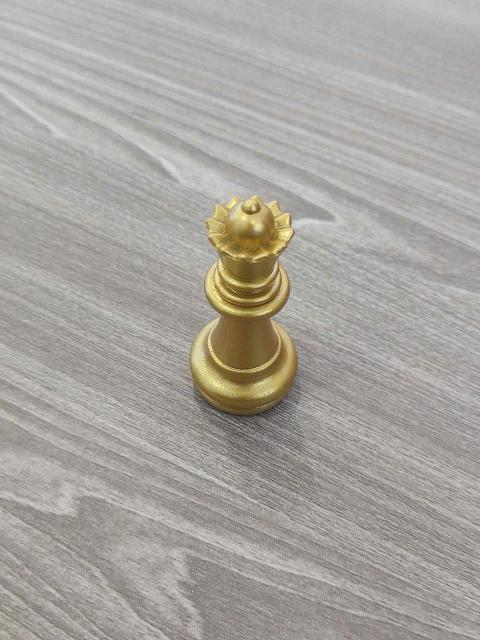black_queen: (189, 189, 307, 417)
